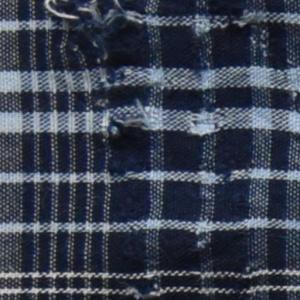Damage: (41, 1, 300, 183), (111, 193, 276, 300)
